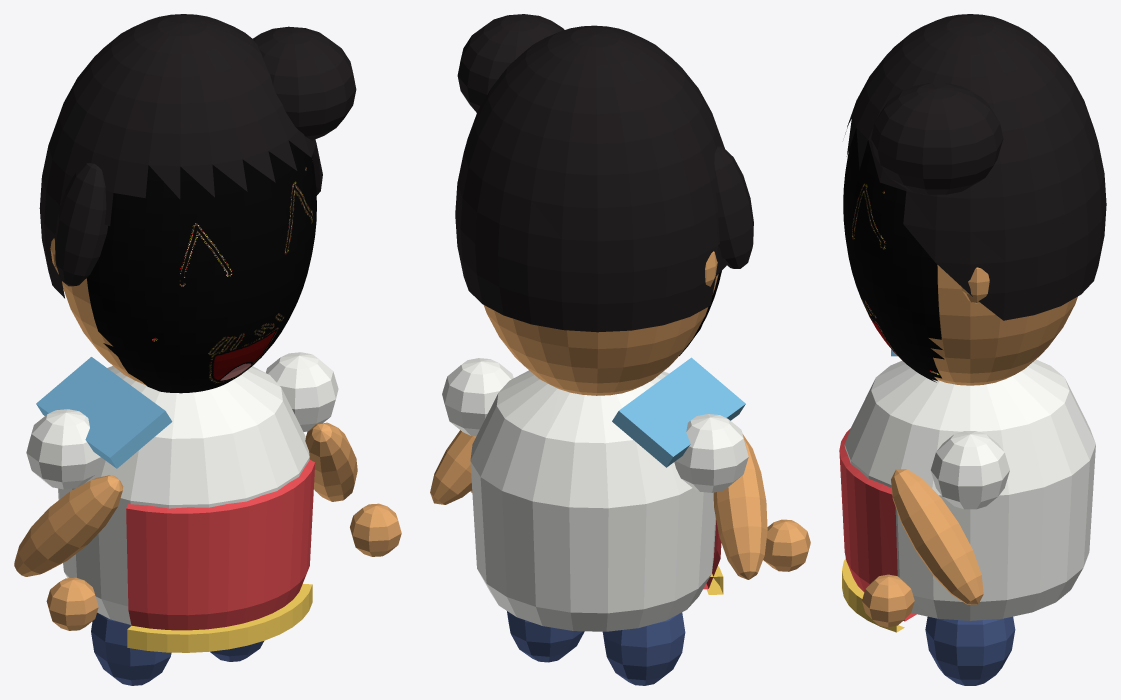
Rendered from mang_kaloy.obj.
The picture shows the model from 3 angles, left to right: view 1: azimuth 30°, elevation 25°; view 2: azimuth 150°, elevation 25°; view 3: azimuth 270°, elevation 25°; orthographic projection.
Parts seen in each view (by area): view 1: face_1, hair_2, shirt_7, apron_8, hair_3, towel_18, skin_11, hair_4, apron_trim_9, shirt_10, shirt_14, pants_13 (+4 smaller); view 2: hair_2, shirt_7, skin_0, towel_18, hair_3, skin_11, shirt_10, pants_13, hair_4, shirt_14, skin_15, pants_17 (+1 smaller); view 3: hair_2, shirt_7, face_1, hair_3, skin_0, skin_15, apron_8, pants_17, shirt_14, skin_16, apron_trim_9, skin_6.
Boxes of the visible parts, x1,y1,x2,y2 form: face_1: [86, 140, 316, 393]; hair_2: [39, 14, 322, 298]; shirt_7: [58, 366, 309, 624]; apron_8: [126, 460, 315, 630]; hair_3: [253, 26, 356, 140]; towel_18: [36, 357, 172, 468]; skin_11: [14, 475, 123, 576]; hair_4: [54, 163, 107, 286]; apron_trim_9: [127, 584, 312, 652]; shirt_10: [26, 409, 101, 489]; shirt_14: [266, 352, 338, 431]; pants_13: [91, 612, 171, 685]; hair_2: [455, 25, 726, 332]; shirt_7: [470, 370, 715, 631]; skin_0: [483, 274, 718, 395]; towel_18: [612, 357, 745, 467]; hair_3: [457, 14, 564, 112]; skin_11: [713, 434, 767, 579]; shirt_10: [674, 414, 748, 492]; pants_13: [602, 612, 685, 685]; hair_4: [714, 146, 753, 268]; shirt_14: [442, 358, 513, 436]; skin_15: [430, 430, 476, 504]; pants_17: [507, 611, 584, 662]; hair_2: [845, 14, 1106, 320]; shirt_7: [844, 359, 1095, 620]; face_1: [843, 128, 944, 382]; hair_3: [871, 83, 1003, 194]; skin_0: [929, 265, 1077, 385]; skin_15: [891, 469, 983, 604]; apron_8: [839, 428, 916, 621]; pants_17: [925, 616, 1015, 685]; shirt_14: [930, 431, 1009, 509]; skin_16: [862, 574, 914, 627]; apron_trim_9: [842, 558, 904, 632]; skin_6: [961, 267, 989, 303].
Bounding box in the file's own units: 3 × 5.31 × 2.02.
